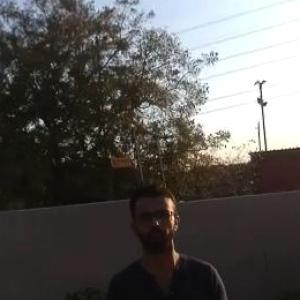follow: (99, 175, 245, 299)
